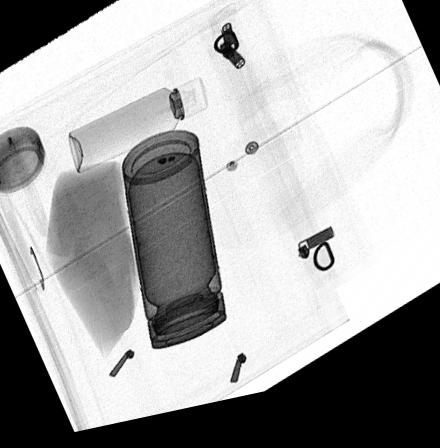Sprayer: (67, 85, 206, 177)
